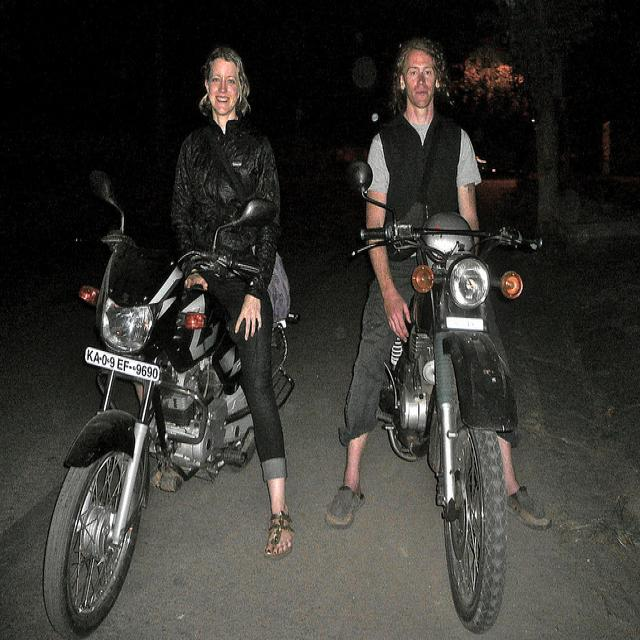motor: (43, 168, 297, 630), (352, 165, 542, 634)
